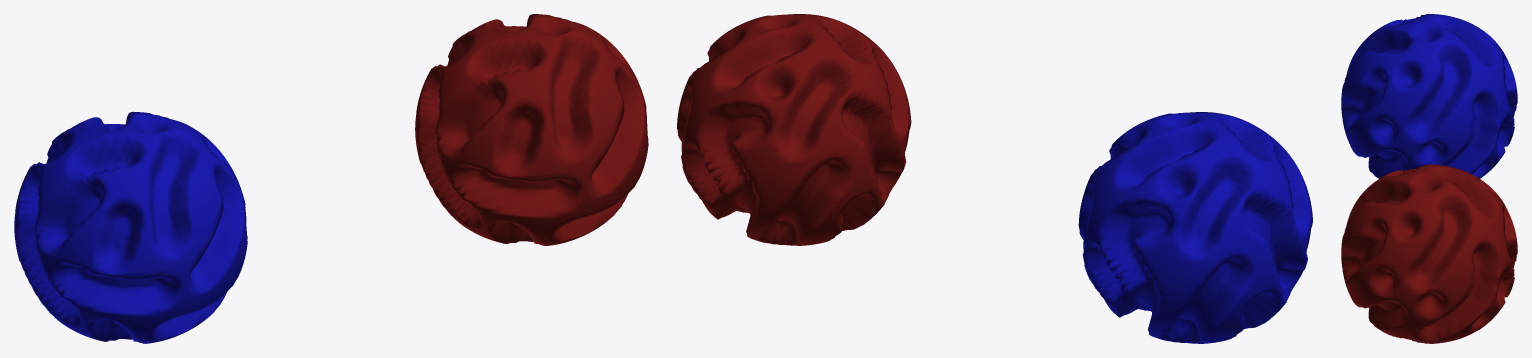
The model's file is orbs.fbx.
3 renders of one model, left to right at view 1: azimuth 30°, elevation 25°; view 2: azimuth 150°, elevation 25°; view 3: azimuth 270°, elevation 25°, orthographic. The views are drawn at different scales.
Parts seen in each view (by area): view 1: pCube2, pCube3; view 2: pCube3, pCube2; view 3: pCube2, pCube3.
Boxes of the visible parts, x1=… form: pCube2: x1=415, y1=14, x2=648, y2=245; pCube3: x1=14, y1=111, x2=247, y2=343; pCube3: x1=1078, y1=112, x2=1312, y2=343; pCube2: x1=677, y1=14, x2=911, y2=245; pCube2: x1=1341, y1=164, x2=1517, y2=343; pCube3: x1=1341, y1=14, x2=1517, y2=178.
Size of the model in its own units: 2.53 by 0.8401 by 0.8392.
